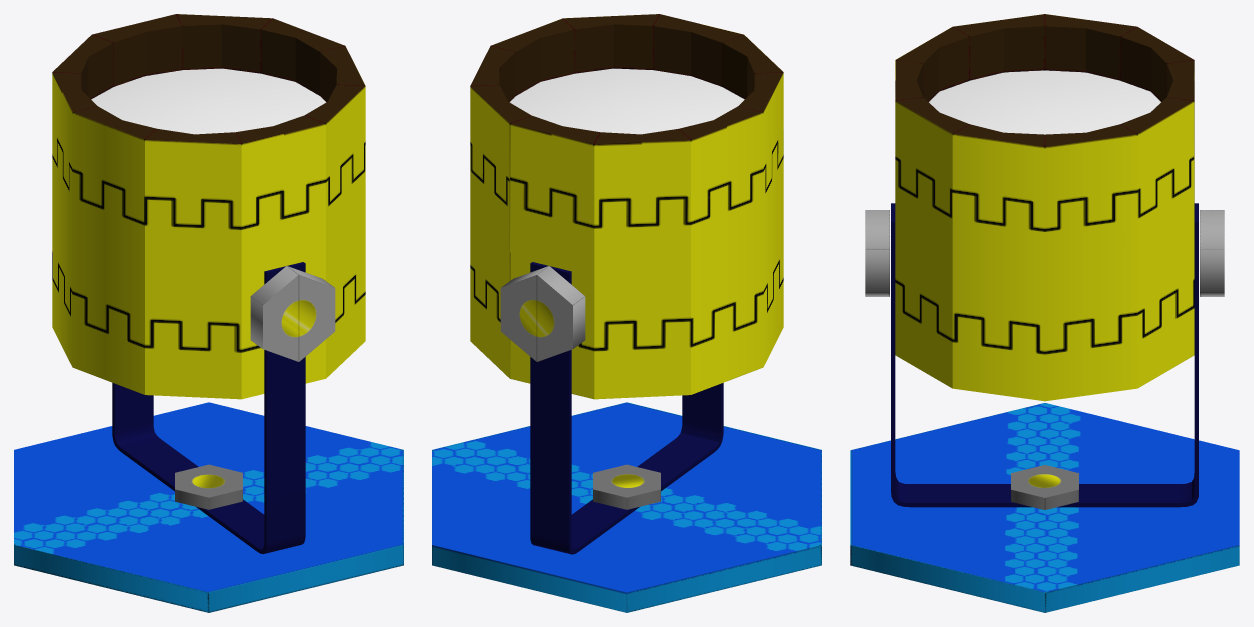
The model's file is LineLightSource.FBX.
3 views of the same model, side by side, from view 1: azimuth 30°, elevation 25°; view 2: azimuth 150°, elevation 25°; view 3: azimuth 270°, elevation 25° (orthographic).
Parts seen in each view (by area): view 1: Light, Base, Bar, Lens, Volt2, BaseVolt; view 2: Light, Base, Bar, Lens, Volt3, BaseVolt; view 3: Light, Base, Lens, Bar, BaseVolt, Volt3, Volt2.
Part boxes in pixels (box(x1,y1,x2,y2)): Light: box(52, 14, 365, 399); Base: box(14, 402, 403, 612); Bar: box(112, 262, 305, 553); Lens: box(91, 68, 326, 134); Volt2: box(250, 266, 335, 361); BaseVolt: box(175, 464, 242, 509); Light: box(470, 14, 783, 399); Base: box(432, 402, 821, 612); Bar: box(530, 262, 723, 554); Lens: box(509, 68, 744, 134); Volt3: box(500, 266, 585, 361); BaseVolt: box(593, 464, 660, 509); Light: box(895, 14, 1194, 401); Base: box(850, 403, 1239, 612); Lens: box(929, 70, 1160, 134); Bar: box(891, 203, 1198, 507); BaseVolt: box(1011, 465, 1078, 509); Volt3: box(1200, 210, 1224, 296); Volt2: box(865, 210, 889, 296).
Bounding box in the file's own units: 39.37 × 34.1 × 42.32.
1 material, 1 textured.
